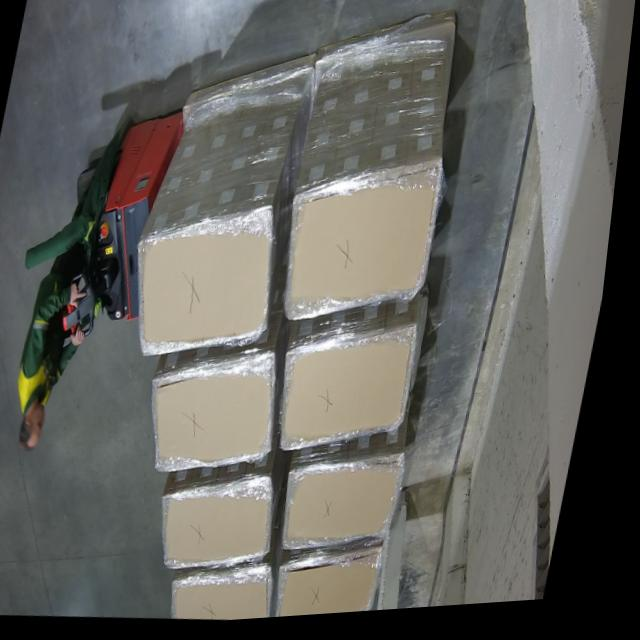pallet: (295, 170, 446, 322), (146, 224, 279, 356), (291, 332, 426, 454), (160, 359, 281, 475), (300, 465, 415, 555), (176, 489, 283, 570), (294, 552, 397, 622), (185, 569, 284, 624)
worker: (12, 99, 186, 462)
